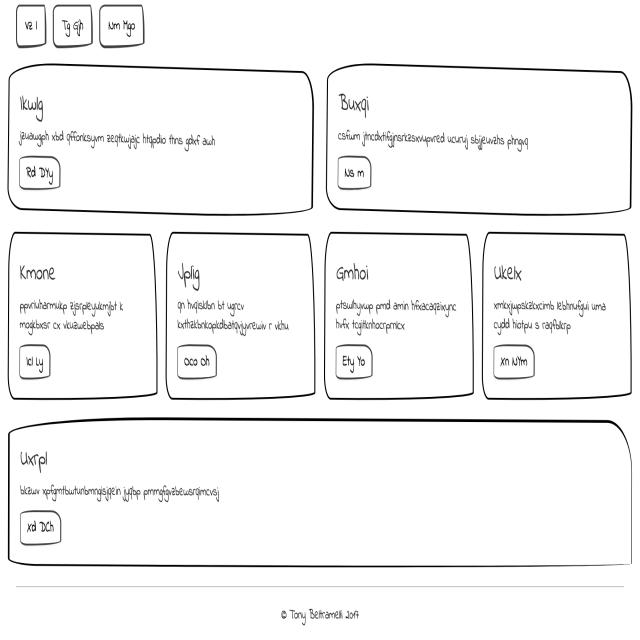Button: (15, 508, 70, 552), (14, 157, 64, 192), (491, 342, 538, 378), (17, 342, 58, 382), (333, 344, 374, 384), (334, 157, 377, 195), (176, 342, 215, 383)
Card: (4, 419, 636, 572), (4, 68, 316, 219), (325, 64, 633, 214), (3, 229, 158, 399), (165, 229, 318, 401), (484, 228, 637, 398), (321, 231, 475, 399)
Footer: (11, 580, 640, 640)
Heading 6: (329, 251, 385, 288), (16, 255, 65, 287), (172, 253, 214, 290), (333, 83, 377, 118), (15, 87, 55, 124), (17, 441, 57, 475), (492, 252, 526, 287)
Navigation Bar: (9, 0, 154, 55)
Paragraph: (334, 120, 541, 154), (17, 479, 223, 508), (492, 292, 608, 338), (329, 294, 464, 332), (15, 126, 222, 150), (11, 297, 127, 336), (174, 296, 289, 335)
